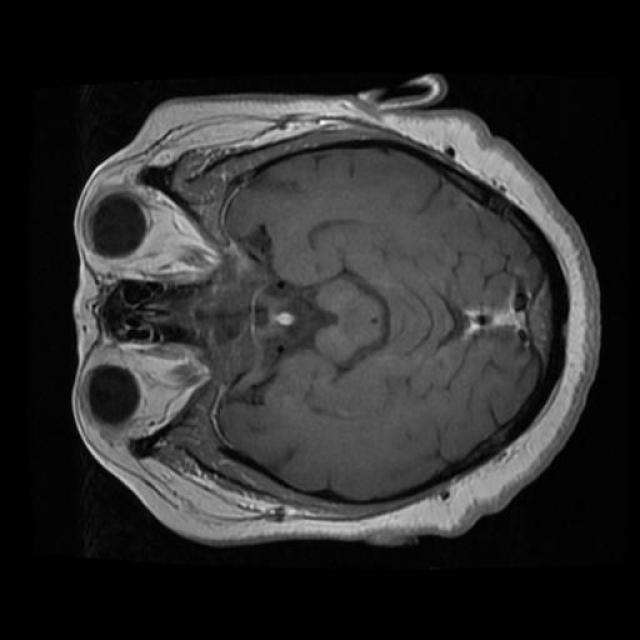Pituitary: (251, 282, 312, 350)
